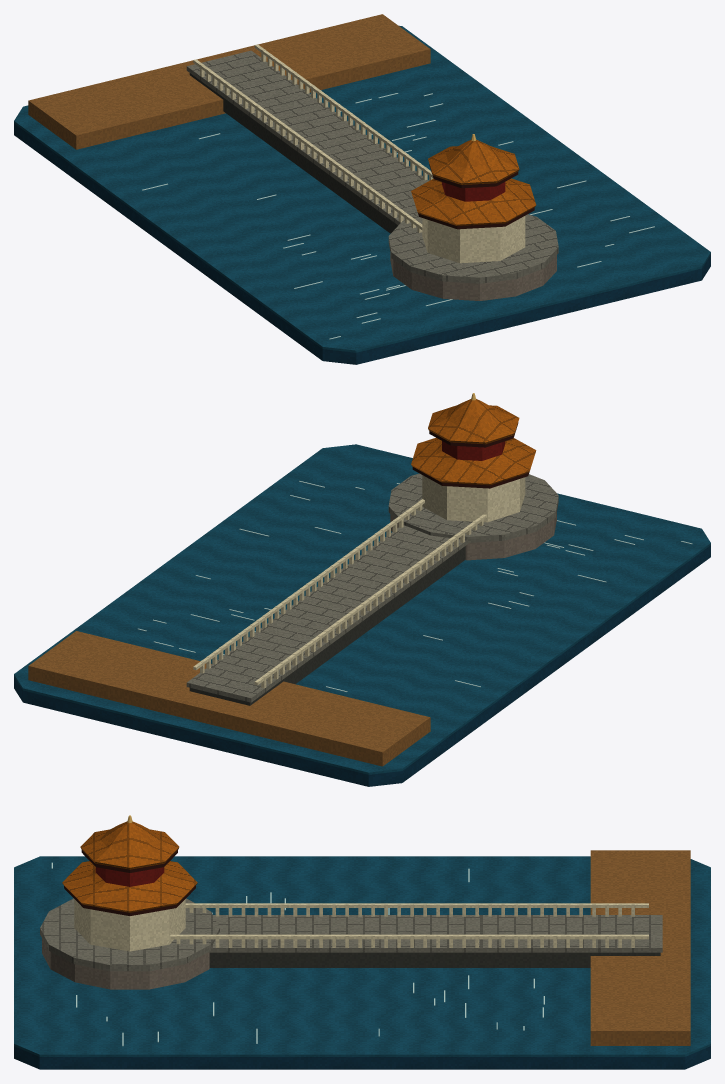
The model's file is qingdao-zhanqiao.glb.
3 renders of one model, top to bottom at view 1: azimuth 30°, elevation 25°; view 2: azimuth 150°, elevation 25°; view 3: azimuth 270°, elevation 25°, orthographic. The views are drawn at different scales.
Visible parts, largest first — view 1: 青岛栈桥; view 2: 青岛栈桥; view 3: 青岛栈桥.
Part boxes in pixels (bbox=[...]): 青岛栈桥: bbox=[14, 14, 710, 364]; 青岛栈桥: bbox=[14, 393, 710, 786]; 青岛栈桥: bbox=[14, 815, 710, 1069].
Size of the model in its own units: 7.4 by 2.69 by 11.
12 materials, 10 textured.
